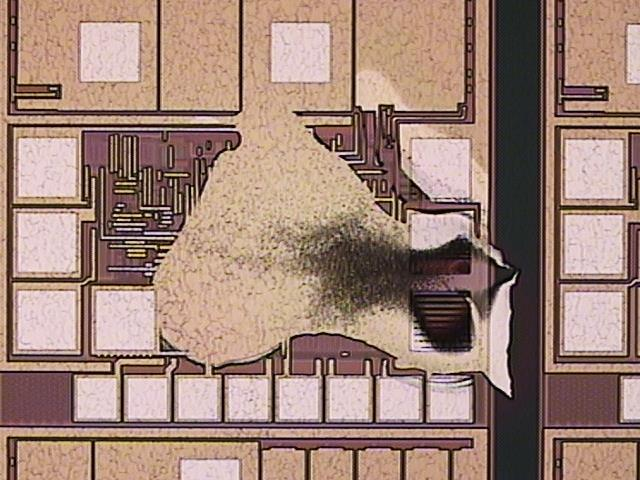BLOCK ETCH: (148, 71, 521, 400)
